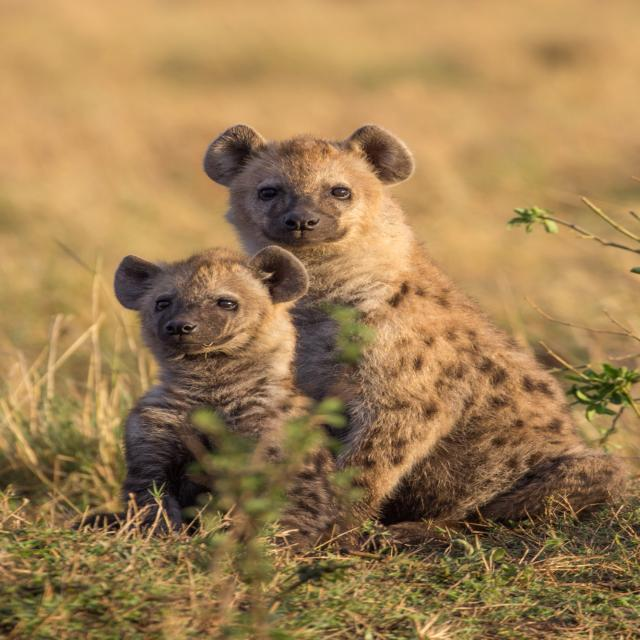Hyena: (202, 120, 599, 634), (111, 240, 305, 533)
